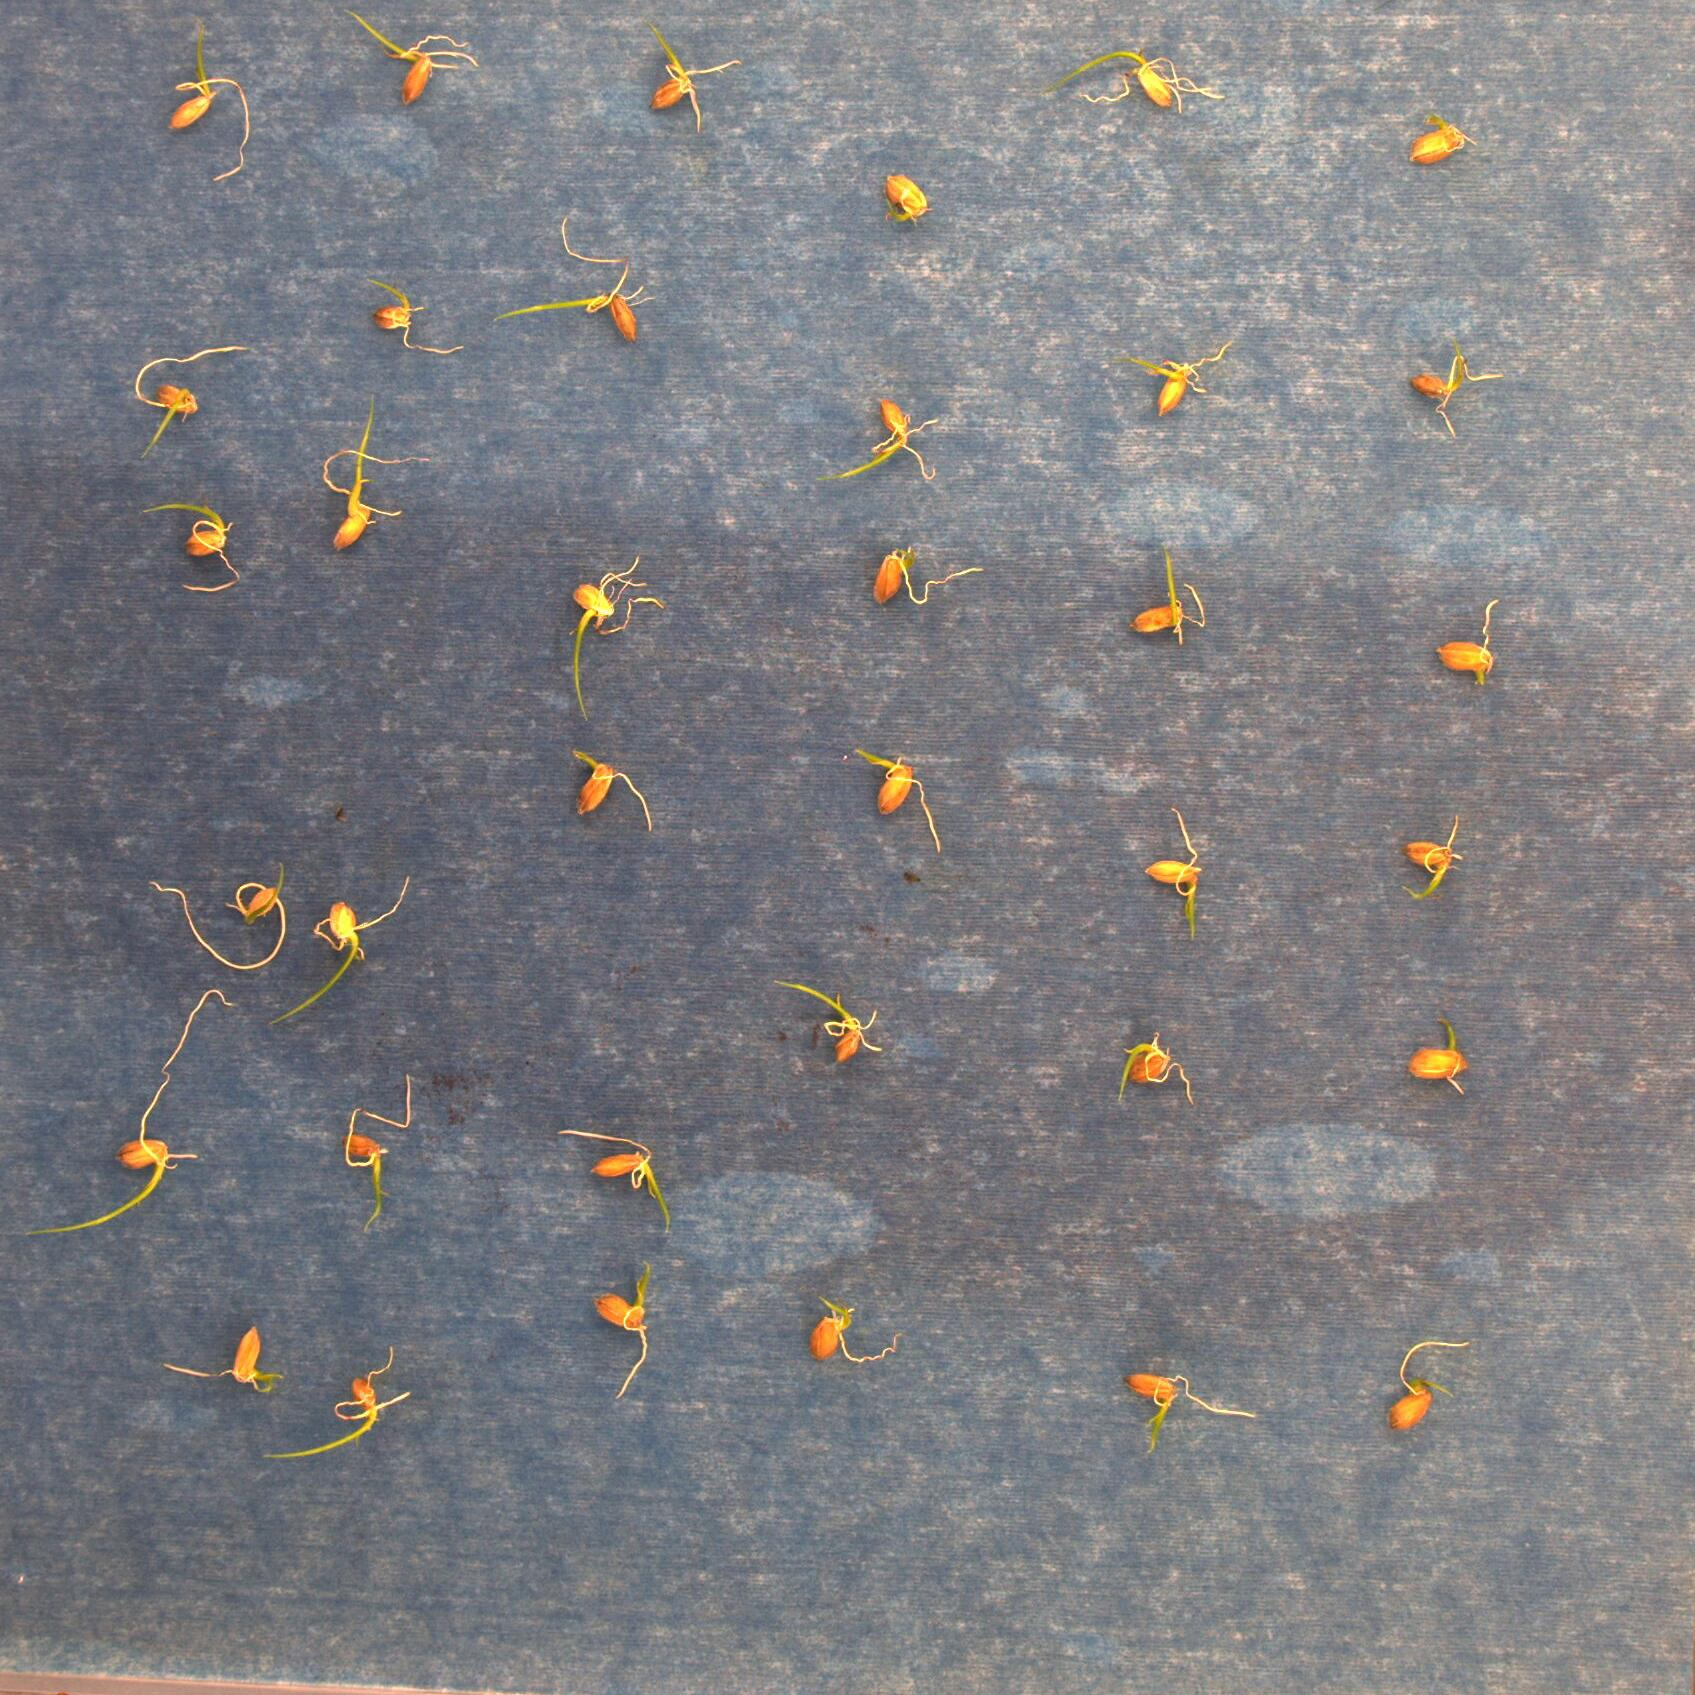not sprout: (877, 546, 989, 612), (1436, 599, 1513, 688)
sprout: (2, 989, 241, 1239), (269, 871, 411, 1024), (487, 216, 657, 345), (320, 394, 427, 553), (146, 857, 289, 972), (259, 1350, 411, 1458), (573, 557, 667, 723), (130, 338, 256, 461), (345, 6, 480, 106), (166, 22, 245, 185), (556, 1128, 669, 1240), (341, 1076, 414, 1236), (1116, 1375, 1257, 1458), (1057, 50, 1226, 116), (813, 397, 939, 484), (646, 23, 740, 135), (1408, 338, 1503, 442), (771, 976, 883, 1063), (855, 747, 942, 855), (161, 1326, 286, 1400), (1125, 338, 1239, 418), (141, 504, 241, 594), (1386, 1340, 1475, 1436), (591, 1262, 650, 1400), (363, 276, 466, 355), (1146, 807, 1205, 942), (1125, 546, 1205, 644), (570, 747, 653, 830), (1114, 1034, 1198, 1107), (809, 1296, 900, 1363), (1394, 815, 1464, 899), (1408, 1020, 1471, 1097), (1406, 112, 1482, 168), (880, 172, 934, 234)
